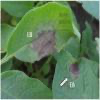Potato leaf early blight: (6, 1, 75, 64), (51, 48, 99, 96)
